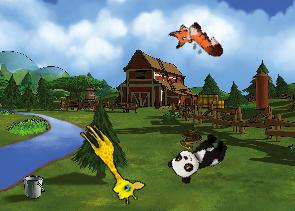fox: (165, 12, 226, 73)
giraffe: (69, 119, 149, 208)
panda: (165, 127, 232, 187)
